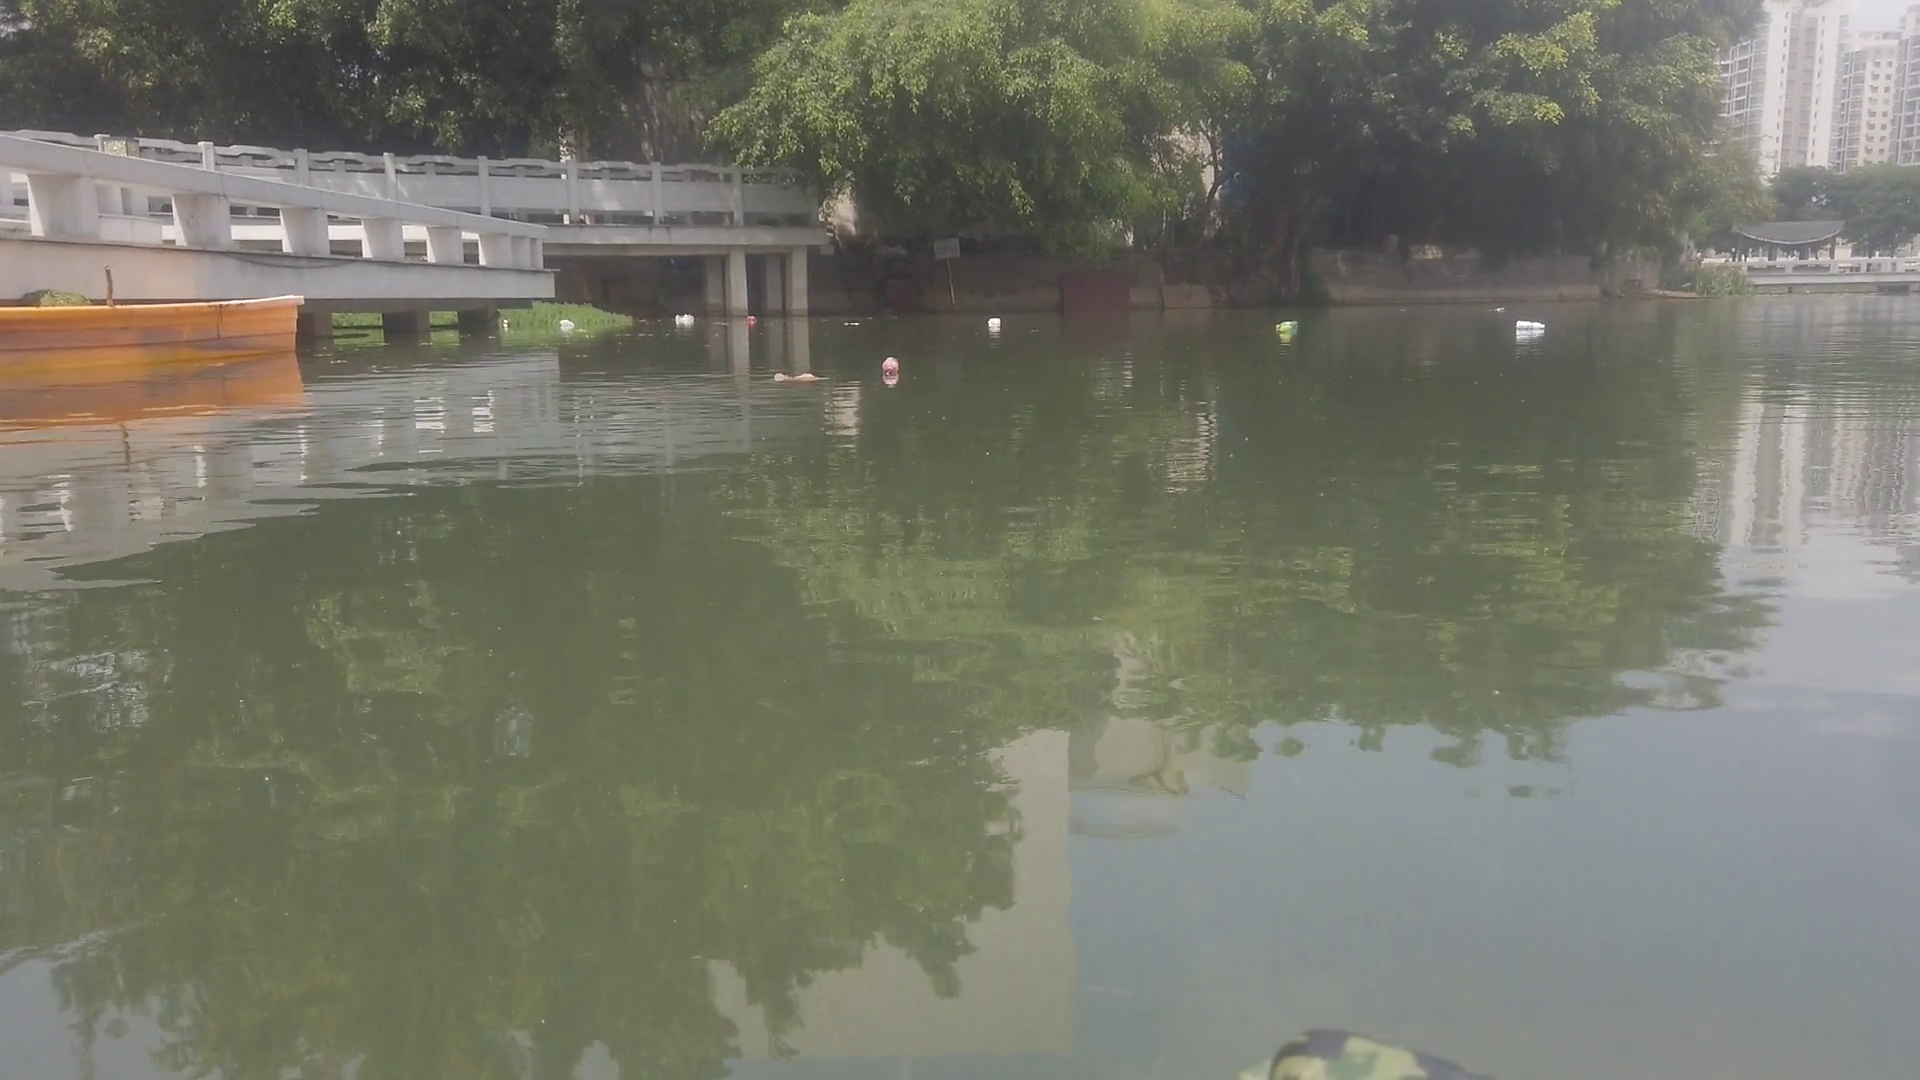bottle: (882, 355, 901, 380), (1514, 320, 1549, 332), (1273, 319, 1299, 334), (498, 315, 514, 328), (744, 315, 760, 323)
carton: (986, 313, 1004, 324)
paper: (770, 369, 828, 382), (841, 316, 865, 328)
plastic: (558, 316, 574, 328), (673, 314, 692, 320)
